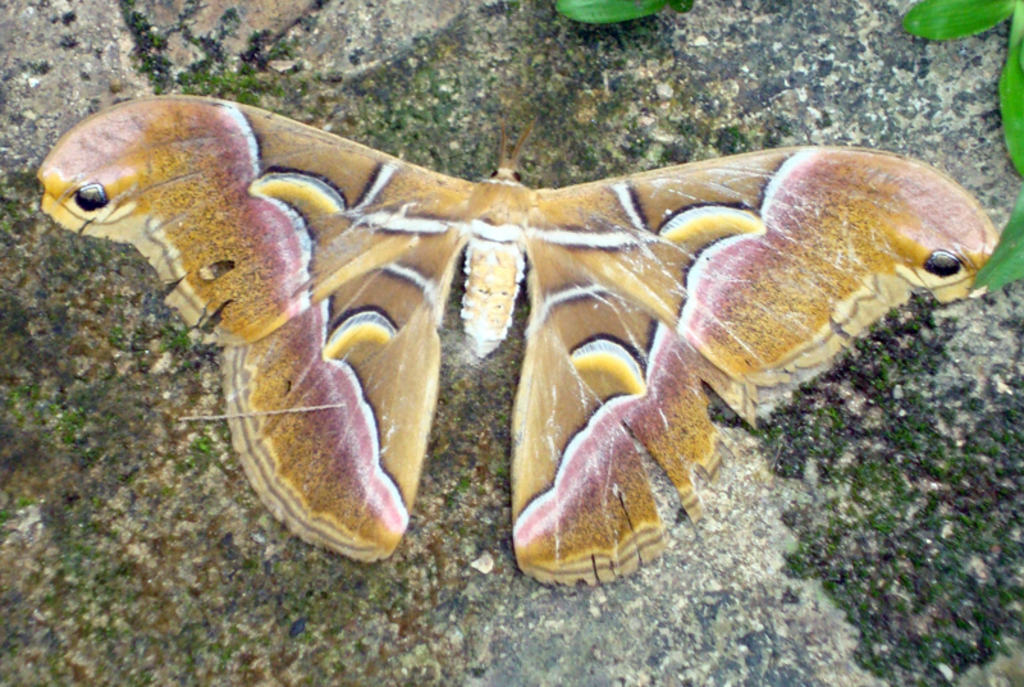Butterfly: (41, 64, 979, 596)
